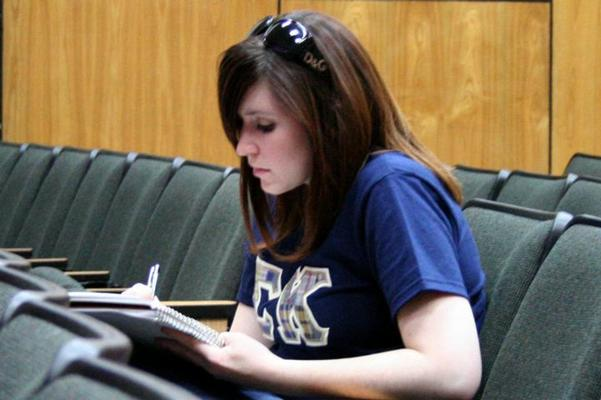person: (155, 9, 487, 400)
